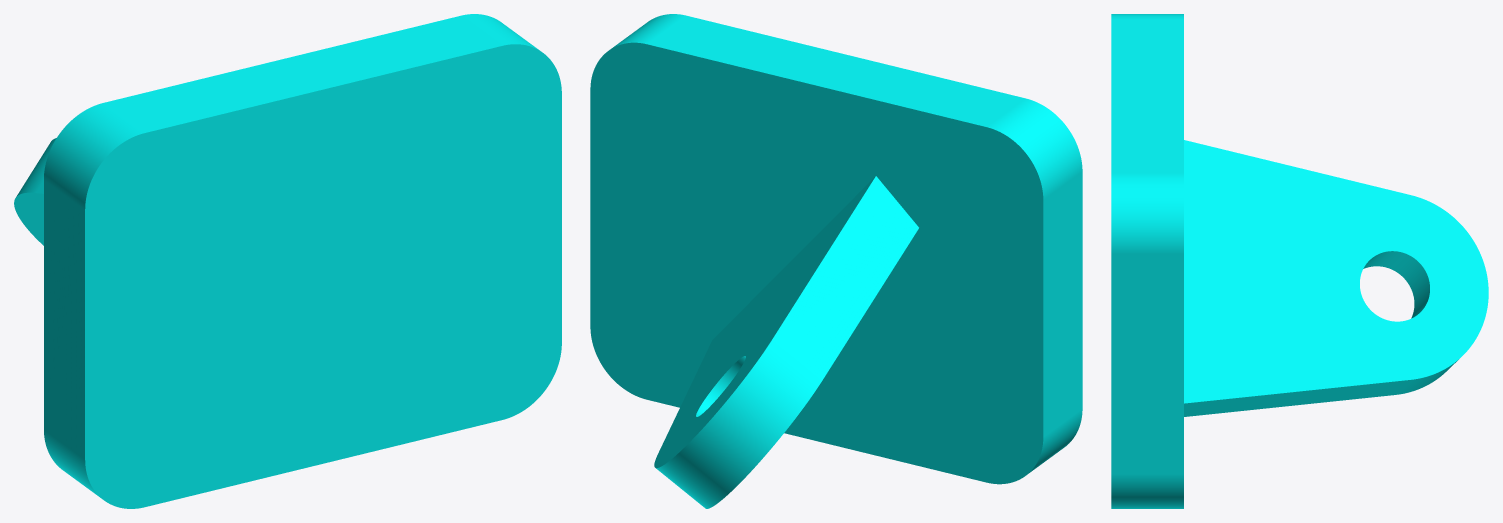
3 views of the same model, side by side, from view 1: azimuth 30°, elevation 25°; view 2: azimuth 150°, elevation 25°; view 3: azimuth 270°, elevation 25° (orthographic). The views are drawn at different scales.
Visible parts, largest first — view 1: 拉伸2; view 2: 拉伸2; view 3: 拉伸2.
Part boxes in pixels (x1,y1,x2,y2): 拉伸2: (14, 14, 561, 508); 拉伸2: (590, 14, 1082, 508); 拉伸2: (1111, 14, 1488, 508).
Bounding box in the file's own units: 3.15 × 2.36 × 2.45.
